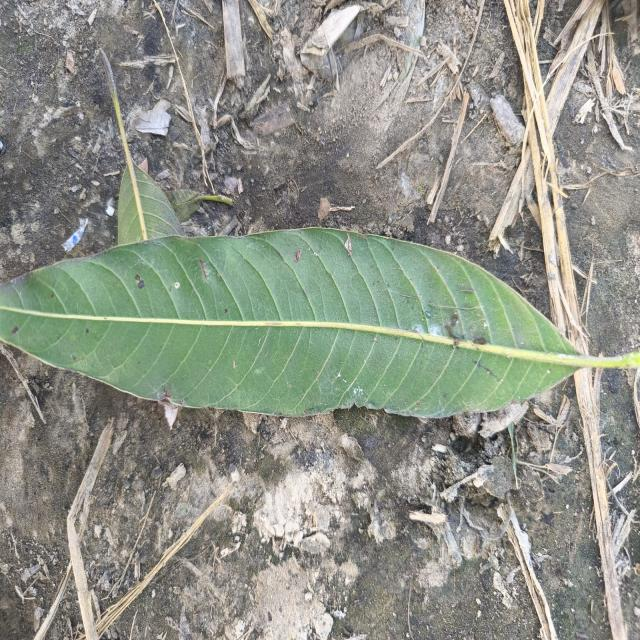Anthracnose: (135, 272, 147, 290), (83, 326, 91, 334), (50, 292, 55, 299), (73, 355, 77, 360)
Bacterial Cancer: (342, 235, 354, 257), (294, 248, 304, 263)
Powdery Mildew: (175, 281, 181, 290)
